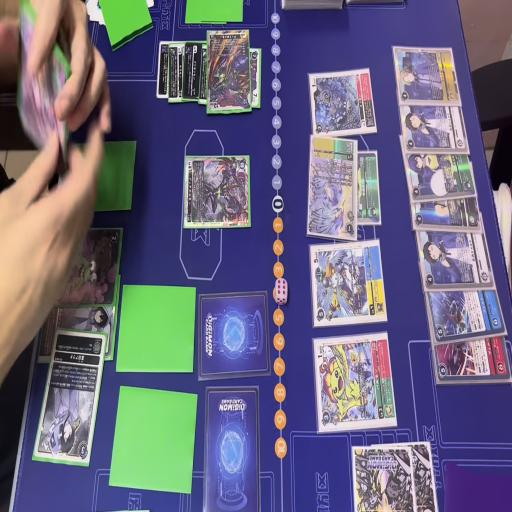card: (34, 334, 105, 460), (315, 329, 393, 434), (16, 17, 68, 173), (310, 240, 384, 330), (39, 301, 122, 366), (416, 228, 495, 296), (181, 152, 250, 228), (306, 136, 357, 236), (398, 132, 476, 197), (305, 67, 376, 138), (52, 230, 122, 302), (424, 287, 506, 344), (391, 44, 460, 105), (433, 332, 512, 385), (398, 101, 470, 157), (198, 45, 261, 108), (206, 27, 248, 118), (412, 196, 482, 234), (356, 151, 384, 229), (182, 39, 201, 105), (167, 42, 185, 108), (155, 38, 172, 102)
